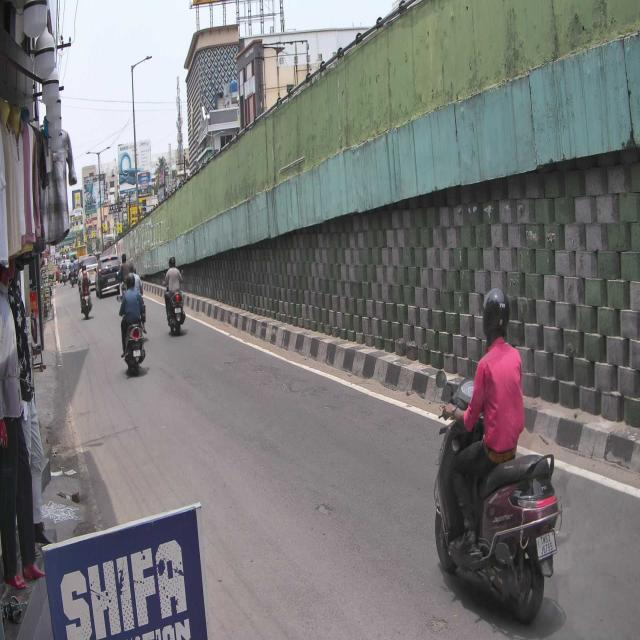single_rider: (432, 284, 563, 620)
